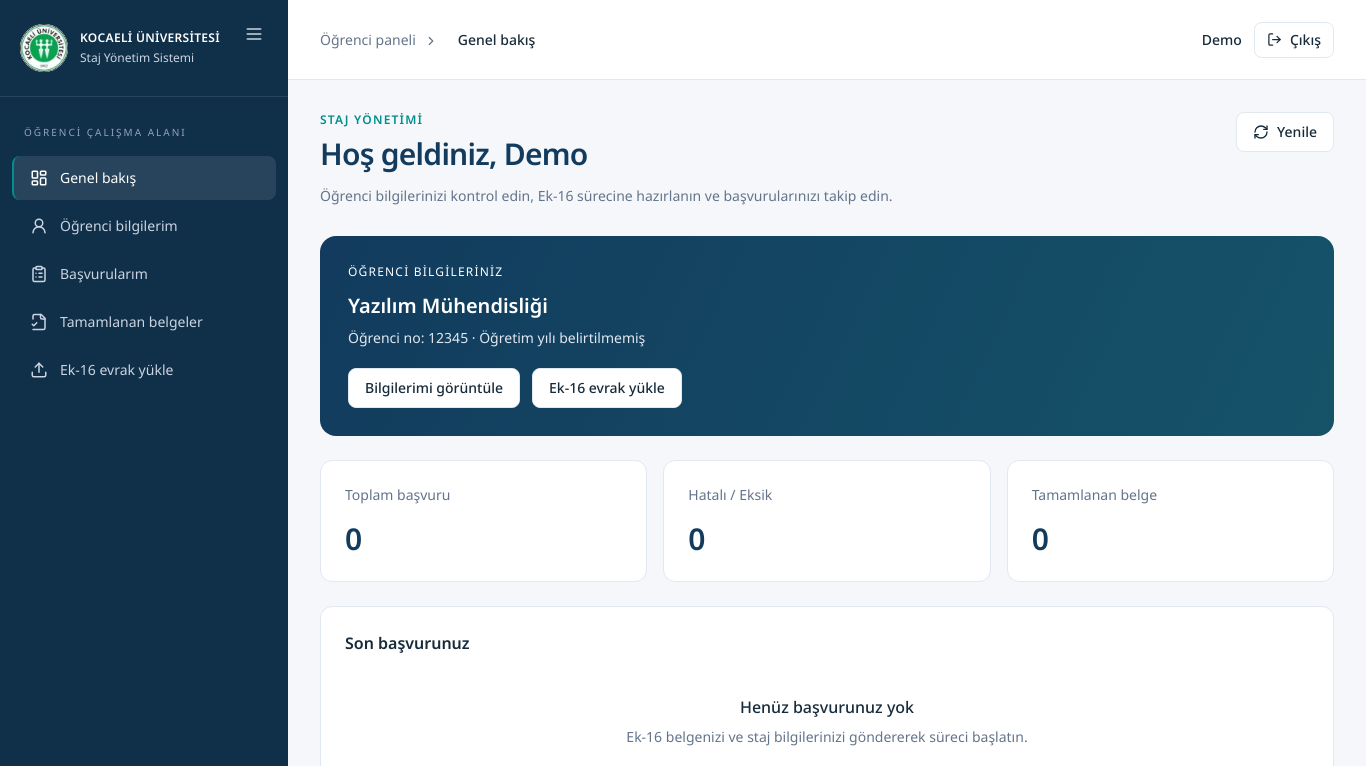
Test: öğrenci kendi profilini açar ve admin menüsünü görmez
expect the text "Öğrenci no: 12345 · Öğretim yılı belirtilmemiş" is shown: met, box [348,328,682,348]
Click the link "Öğrenci bilgilerim" at (104, 226), box [30,216,178,235]
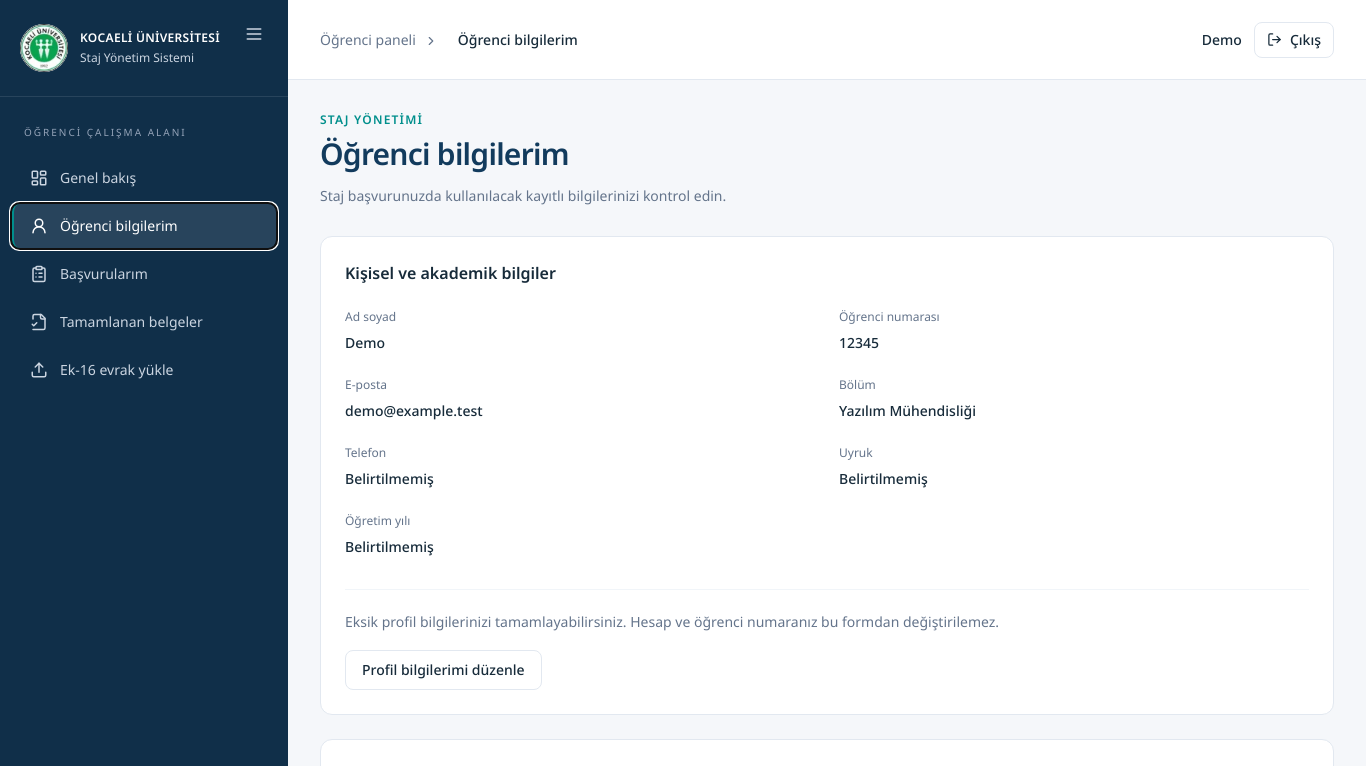
expect the text "12345" is shown: met, box [839,333,879,352]
expect the heading "Kişisel ve akademik bilgiler" is shown: met, box [345,262,556,284]
